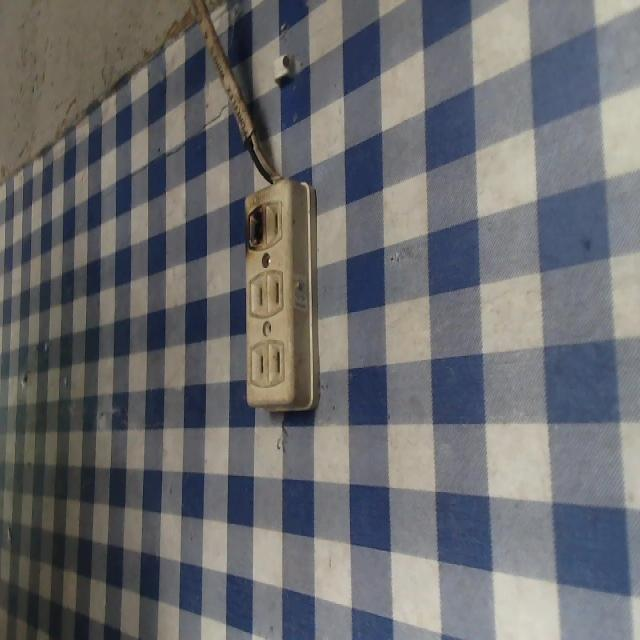-: (242, 203, 270, 253)
